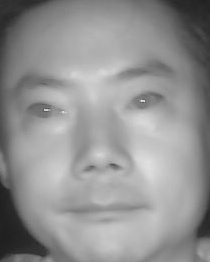eye: (122, 90, 163, 114), (26, 100, 67, 123)
mouth: (55, 191, 149, 230)
